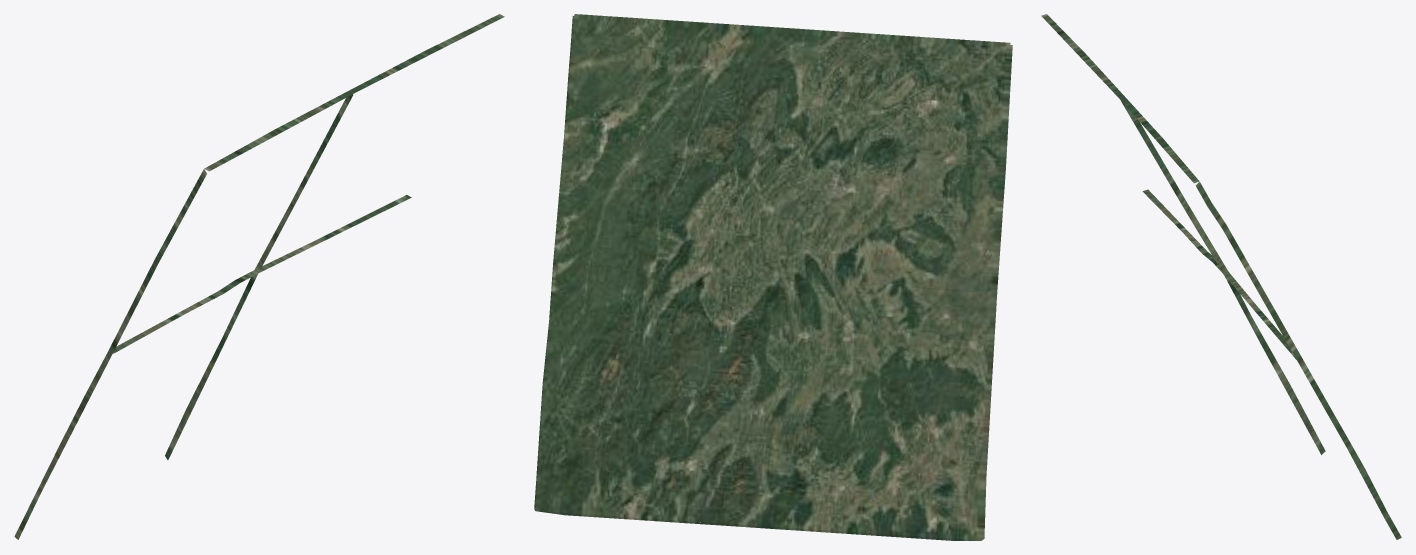
3 renders of one model, left to right at view 1: azimuth 30°, elevation 25°; view 2: azimuth 150°, elevation 25°; view 3: azimuth 270°, elevation 25°, orthographic. The views are drawn at different scales.
Size of the model in its own units: 316126 by 283075 by 236081.
Materials: 1 (1 with a texture image).
